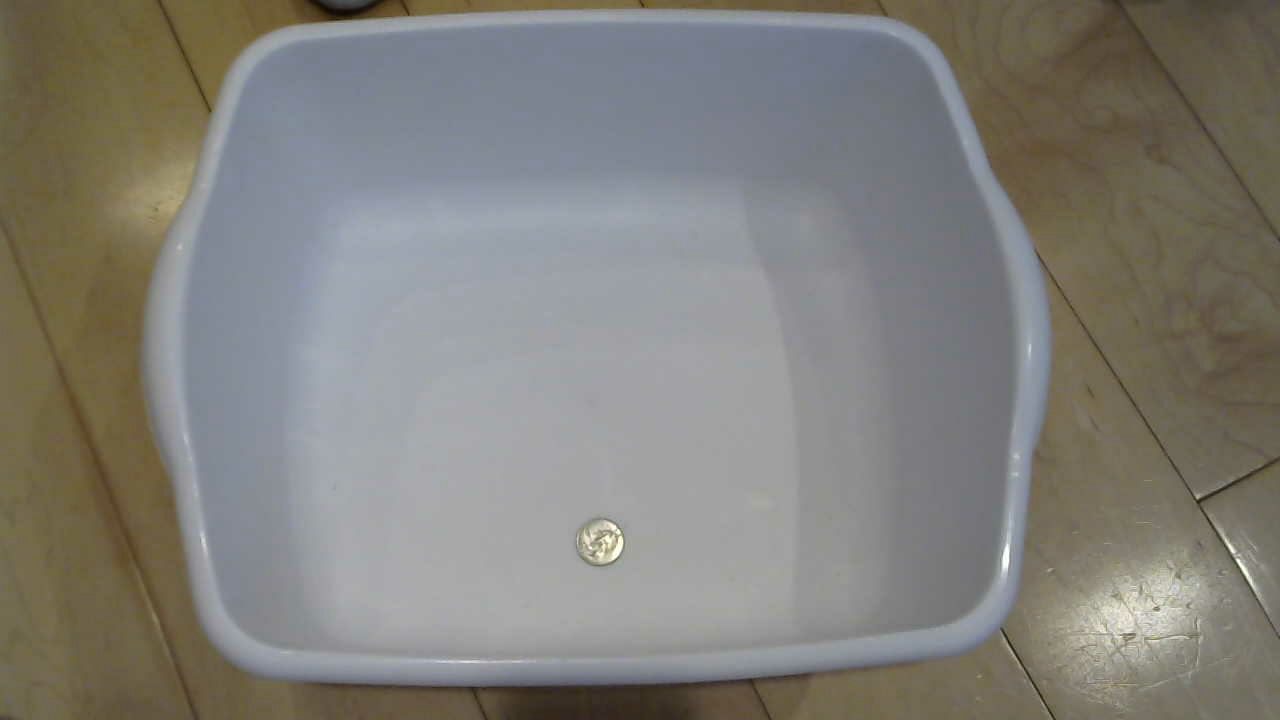coin: (568, 518, 641, 578)
